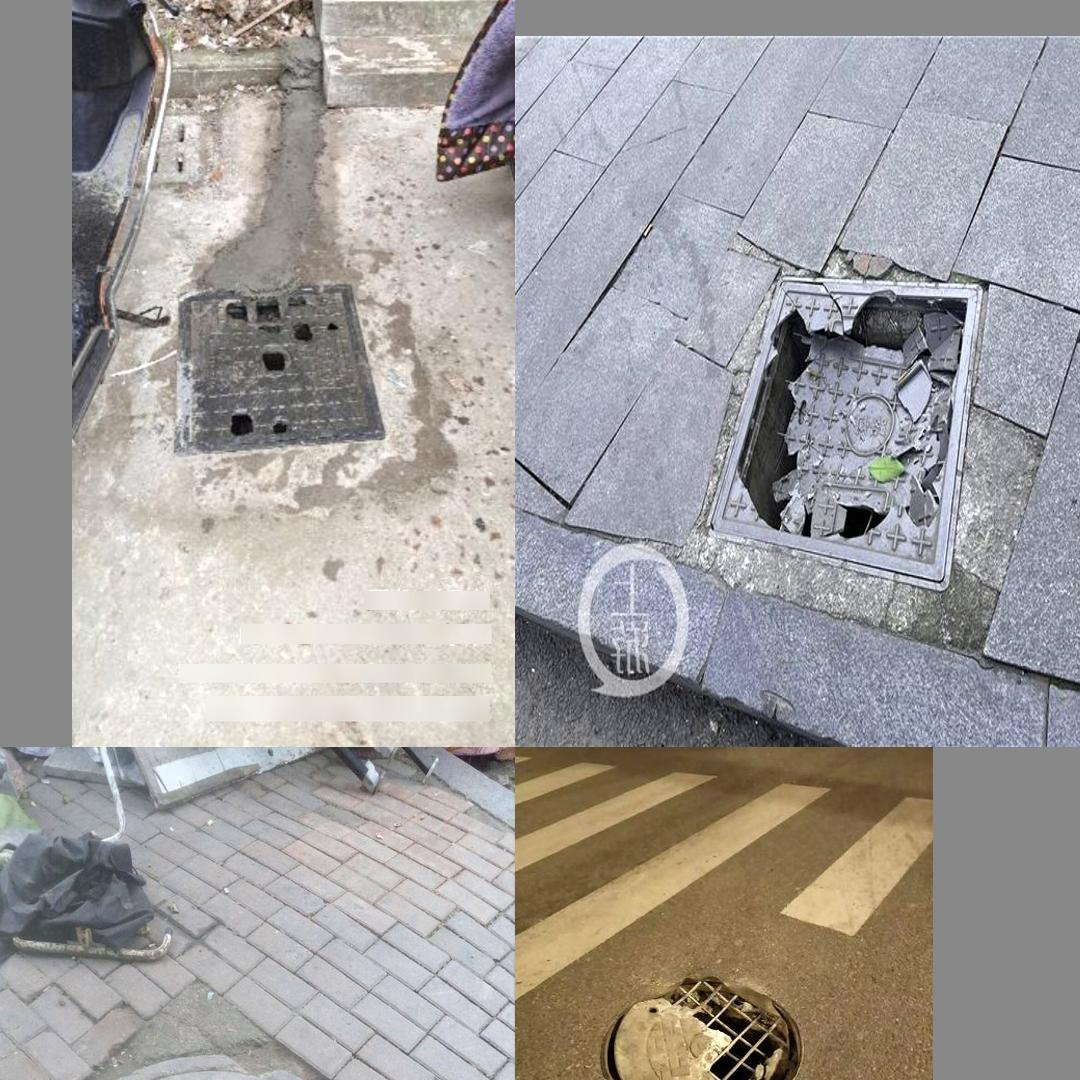broke: (673, 253, 1006, 606), (170, 281, 385, 461), (587, 967, 815, 1080), (10, 1053, 393, 1080)
